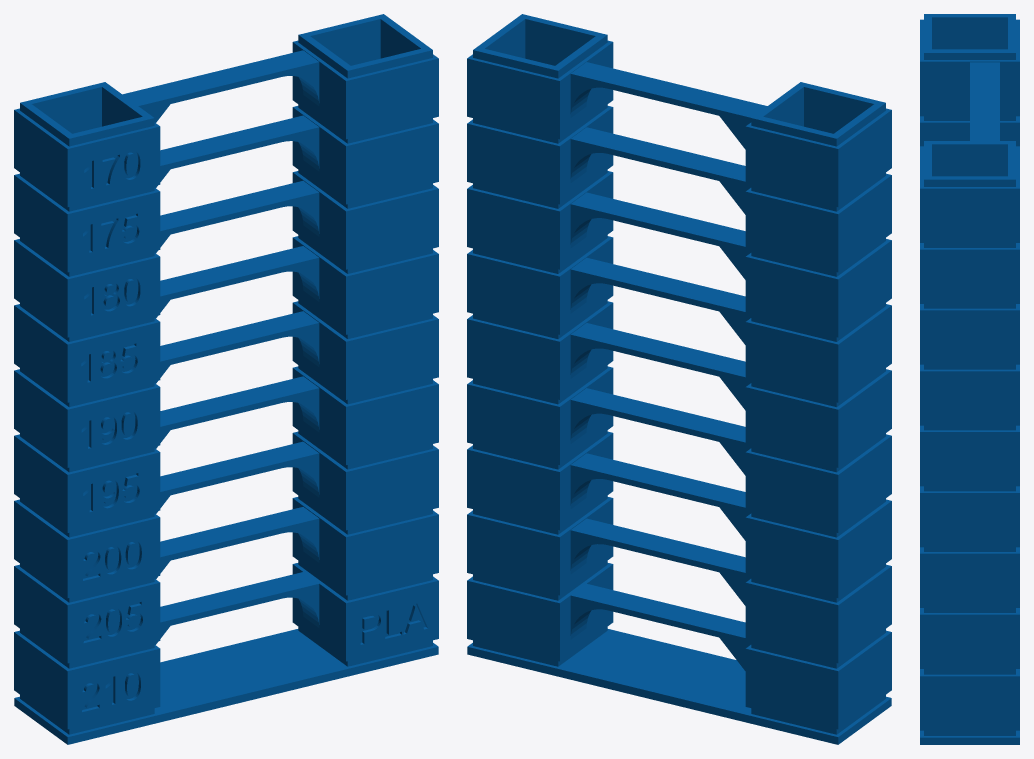
Rendered from 170-210_PLA_Temp_Tower-21.glb.
3 renders of one model, left to right at view 1: azimuth 30°, elevation 25°; view 2: azimuth 150°, elevation 25°; view 3: azimuth 270°, elevation 25°, orthographic. The views are drawn at different scales.
Bounding box in the file's own units: 40.03 × 62.2 × 10.
